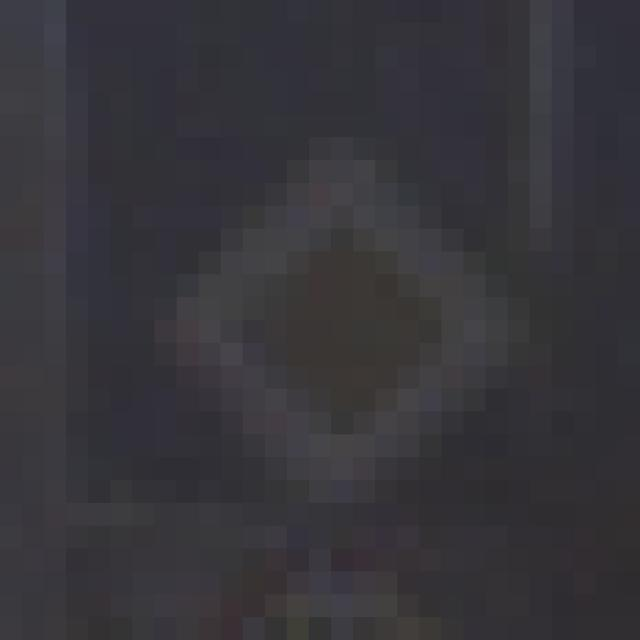Main Road: (134, 138, 531, 527)
